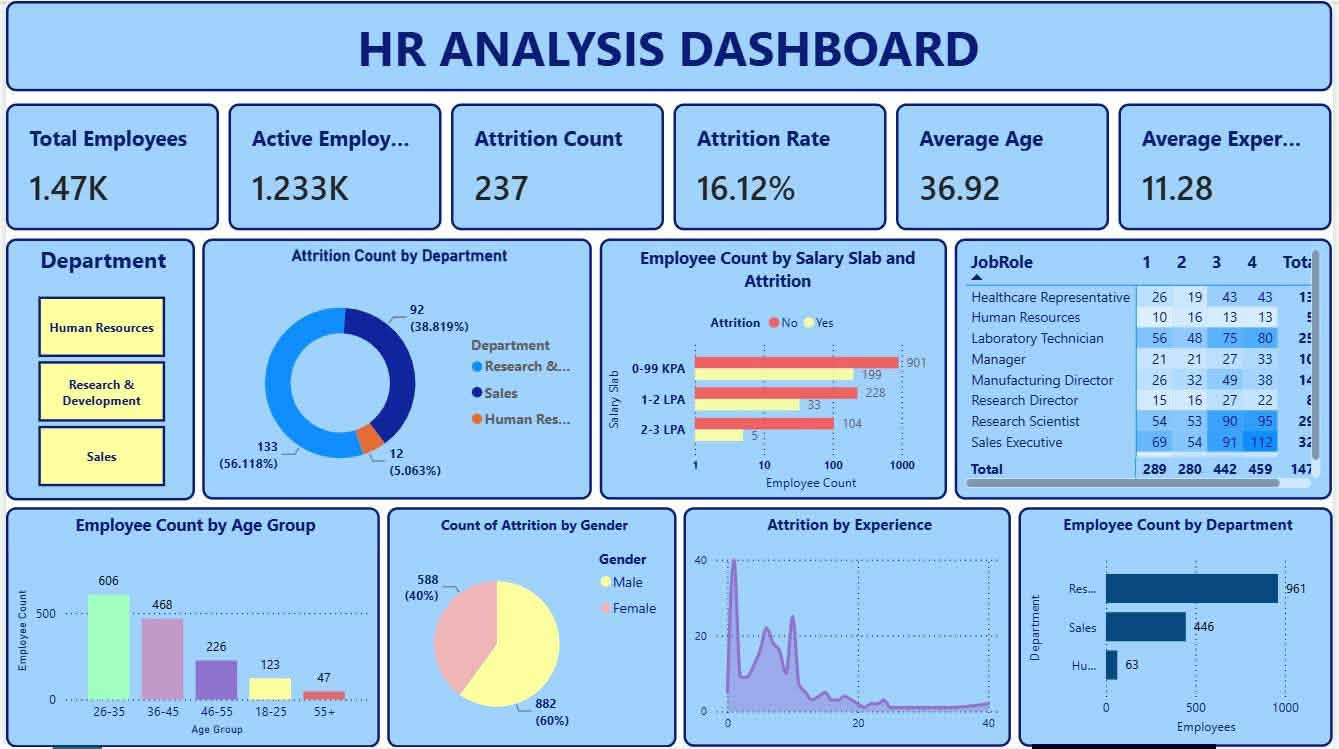

The dashboard page shown, as its layout file describes it:
{"tool":"powerbi","page":{"name":"Page 1","canvas":[1280,720],"ordinal":0},"visuals":[{"type":"shape","box":[0,0,1280,87.1],"z":0},{"type":"cardVisual","fields":{"Data":["HR Data.Total Employees"]},"box":[0,99,205.8,122.1],"z":1000},{"type":"cardVisual","fields":{"Data":["HR Data.Active Employees"]},"box":[214.9,99,205.8,122.1],"z":2000},{"type":"cardVisual","fields":{"Data":["HR Data.Attrition Count"]},"box":[429.8,99,205.8,122.1],"z":3000},{"type":"cardVisual","fields":{"Data":["HR Data.Attrition Rate"]},"box":[644.7,99,205.8,122.1],"z":4000},{"type":"cardVisual","fields":{"Data":["HR Data.Average Age"]},"box":[859.6,99,205.8,122.1],"z":5000},{"type":"cardVisual","title":"Avrg E","fields":{"Data":["HR Data.Average Experience"]},"box":[1074.2,99,205.8,122.1],"z":6000},{"type":"slicer","title":"Department","fields":{"Values":["HR Data.Department"]},"box":[0,228.8,182.7,252.7],"z":7000},{"type":"donutChart","fields":{"Category":["HR Data.Department"],"Y":["HR Data.Attrition Count"]},"box":[190,229.5,376,252],"z":8000},{"type":"clusteredBarChart","fields":{"Category":["HR Data.Salary Slab"],"Series":["HR Data.Attrition"],"Y":["HR Data.Employee Count"]},"box":[573.3,229,335.6,252.2],"z":9000},{"type":"pivotTable","fields":{"Rows":["HR Data.JobRole"],"Columns":["HR Data.JobSatisfaction"],"Values":["HR Data.Employee Count"]},"box":[915.7,229.2,364.3,252.1],"z":10000},{"type":"columnChart","fields":{"Y":["HR Data.Employee Count"],"Category":["HR Data.Age Group"]},"box":[0,488.2,360.9,231.8],"z":11000},{"type":"pieChart","fields":{"Category":["HR Data.Gender"],"Y":["CountNonNull(HR Data.Attrition)"]},"box":[368,488.2,279.1,231.8],"z":12000},{"type":"lineChart","title":"Attrition by Experience","fields":{"Category":["HR Data.TotalWorkingYears"],"Y":["HR Data.Attrition Count"]},"box":[654.2,488.6,315.7,231.4],"z":13000},{"type":"clusteredBarChart","fields":{"Category":["HR Data.Department"],"Y":["HR Data.Employee Count"]},"box":[977,488.8,303,231],"z":14000}]}

Visuals, with their boxes in screenshot pixels (x1, y1, x2, y2), scaled from the page's 1280x720 canvas onto the 1339x749 screenshot:
shape: (0, 0, 1338, 91)
cardVisual - HR Data.Total Employees: (0, 103, 215, 230)
cardVisual - HR Data.Active Employees: (225, 103, 440, 230)
cardVisual - HR Data.Attrition Count: (450, 103, 665, 230)
cardVisual - HR Data.Attrition Rate: (674, 103, 890, 230)
cardVisual - HR Data.Average Age: (899, 103, 1115, 230)
"Avrg E" cardVisual: (1124, 103, 1338, 230)
"Department" slicer: (0, 238, 191, 501)
donutChart - HR Data.Department x HR Data.Attrition Count: (199, 239, 592, 501)
clusteredBarChart - HR Data.Salary Slab x HR Data.Attrition: (600, 238, 951, 501)
pivotTable - HR Data.JobRole x HR Data.JobSatisfaction: (958, 238, 1338, 501)
columnChart - HR Data.Employee Count x HR Data.Age Group: (0, 508, 378, 748)
pieChart - HR Data.Gender x CountNonNull(HR Data.Attrition): (385, 508, 677, 748)
"Attrition by Experience" lineChart: (684, 508, 1015, 748)
clusteredBarChart - HR Data.Department x HR Data.Employee Count: (1022, 508, 1338, 748)
